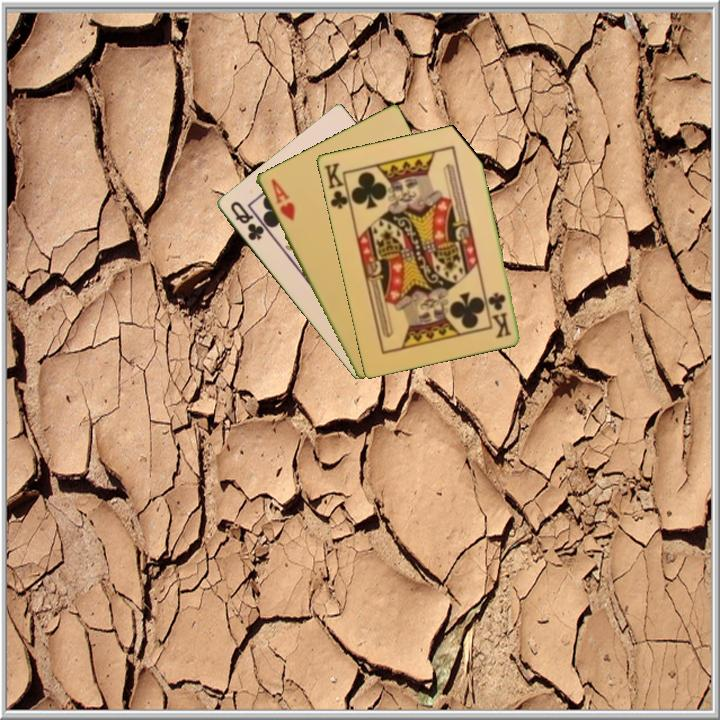Ah: (267, 175, 298, 224)
Kc: (320, 159, 353, 212), (485, 288, 514, 340)
Qc: (226, 197, 267, 244)
